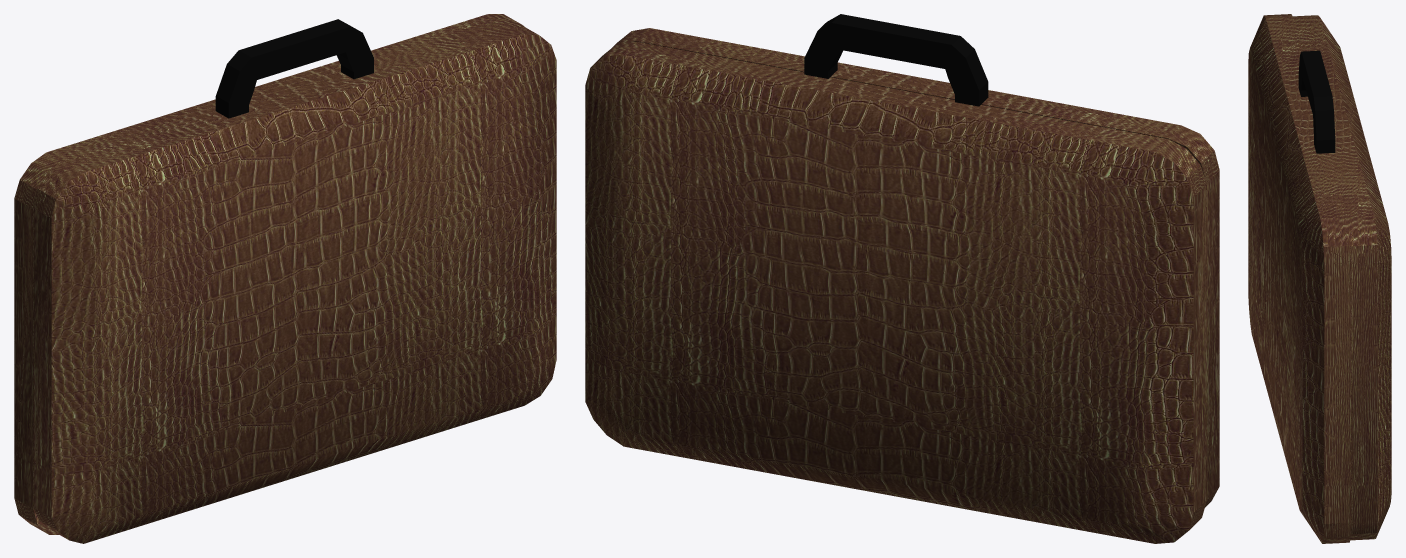
The model's file is koffer.fbx.
3 views of the same model, side by side, from view 1: azimuth 30°, elevation 25°; view 2: azimuth 150°, elevation 25°; view 3: azimuth 270°, elevation 25° (orthographic). The views are drawn at different scales.
Visible parts, largest first — view 1: Group_041; view 2: Group_041; view 3: Group_041.
Boxes of the visible parts, x1=… form: Group_041: x1=14, y1=14, x2=556, y2=543; Group_041: x1=585, y1=14, x2=1219, y2=543; Group_041: x1=1248, y1=14, x2=1391, y2=543.
Size of the model in its own units: 11.73 by 8.73 by 3.07.
